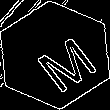M_NW: (18, 21, 92, 89)
